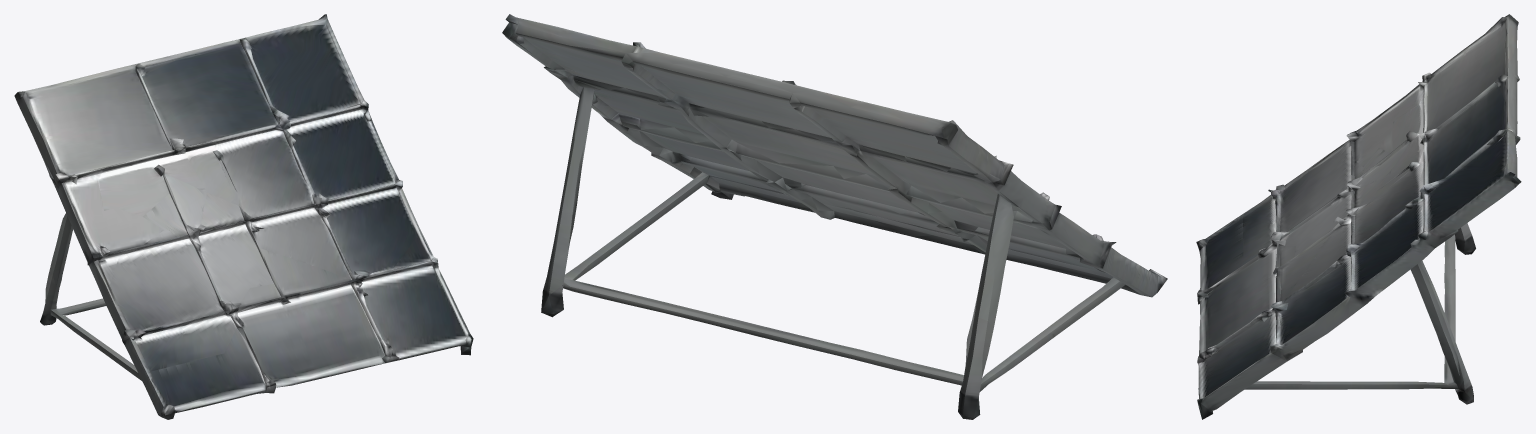
File: m2RoofSolarRack.glb
The picture shows the model from 3 angles, left to right: view 1: azimuth 30°, elevation 25°; view 2: azimuth 150°, elevation 25°; view 3: azimuth 270°, elevation 25°; orthographic projection. The views are drawn at different scales.
Visible parts, largest first — view 1: model; view 2: model; view 3: model.
Boxes of the visible parts, x1,y1,x2,y2 form: model: [14, 14, 473, 419]; model: [502, 14, 1167, 419]; model: [1196, 14, 1521, 419].
Size of the model in its own units: 1.9 by 1.37 by 1.62.
Materials: 1 (1 with a texture image).
